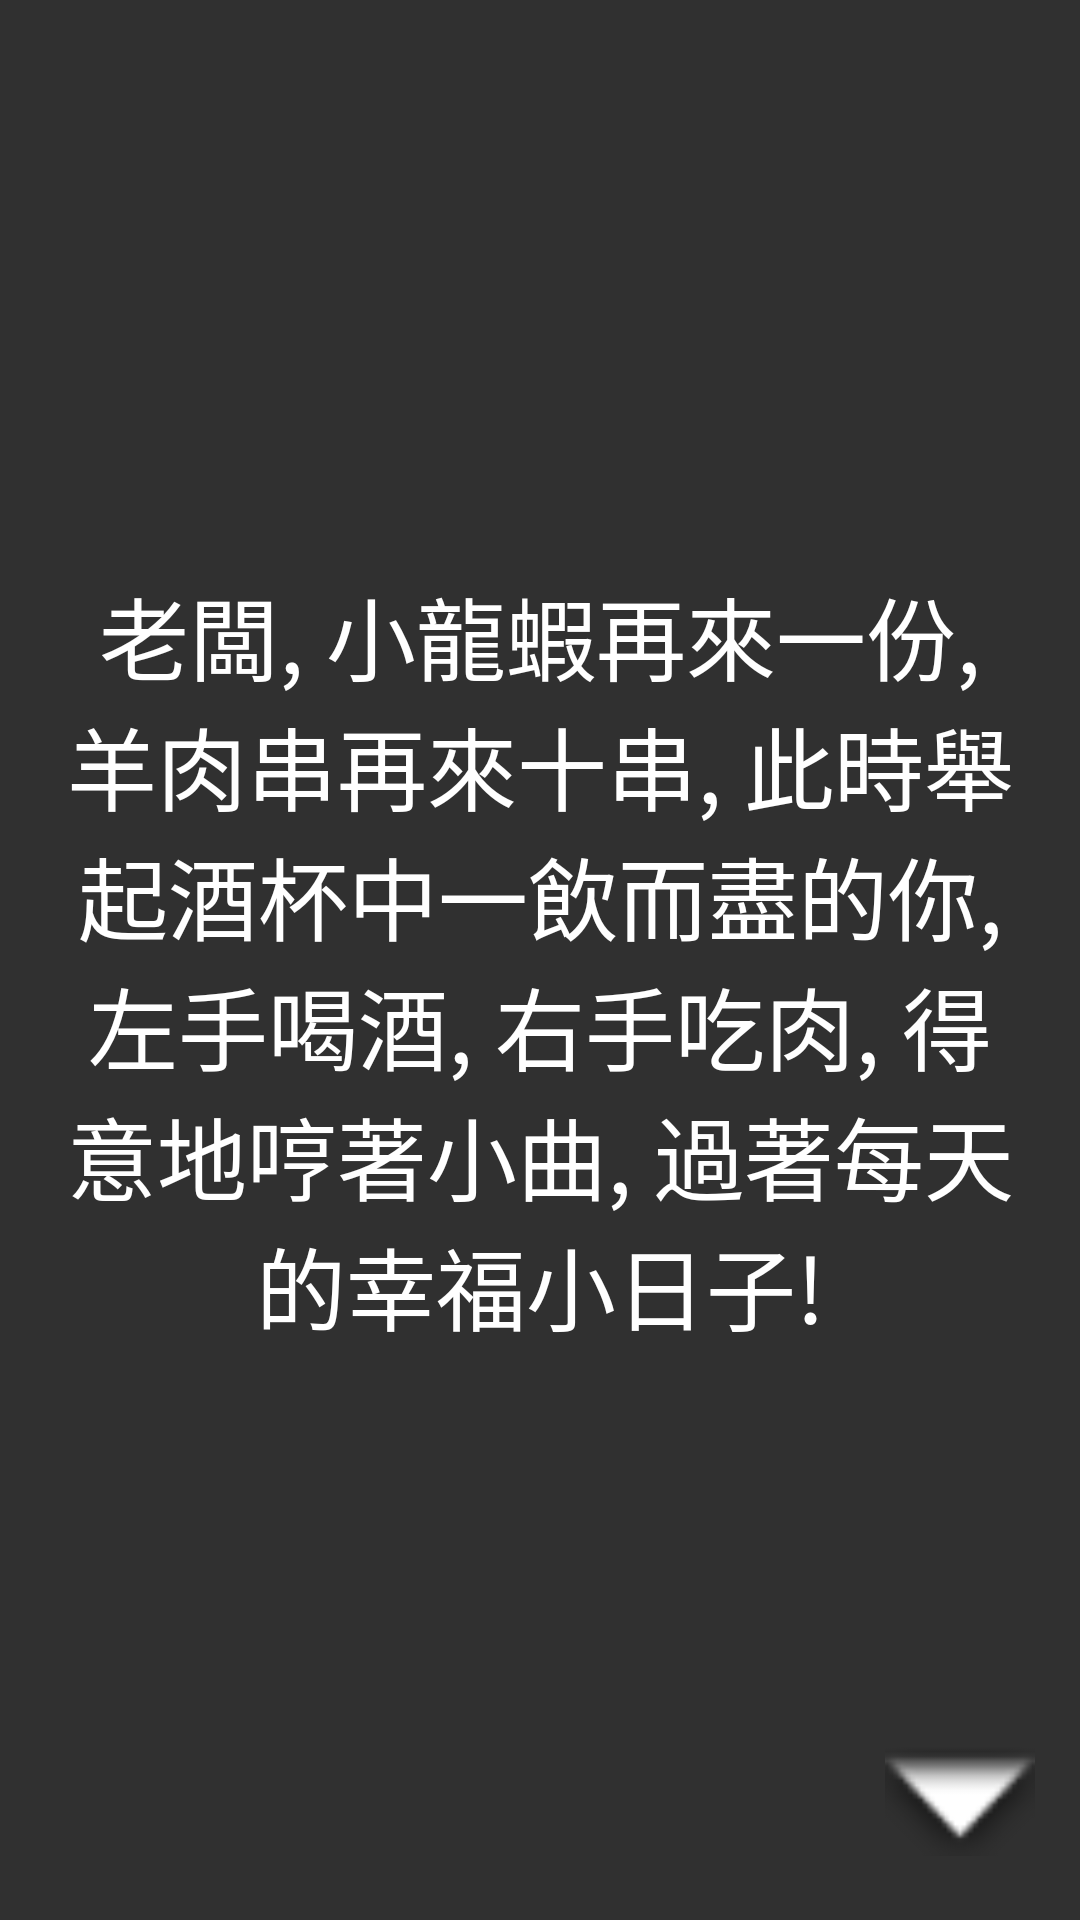

Icon bounding boxes for this 1080px x 1920px phone screenshot, format [x1,y1,x2,y2]:
arrow down float: [890,1759,1030,1838]
